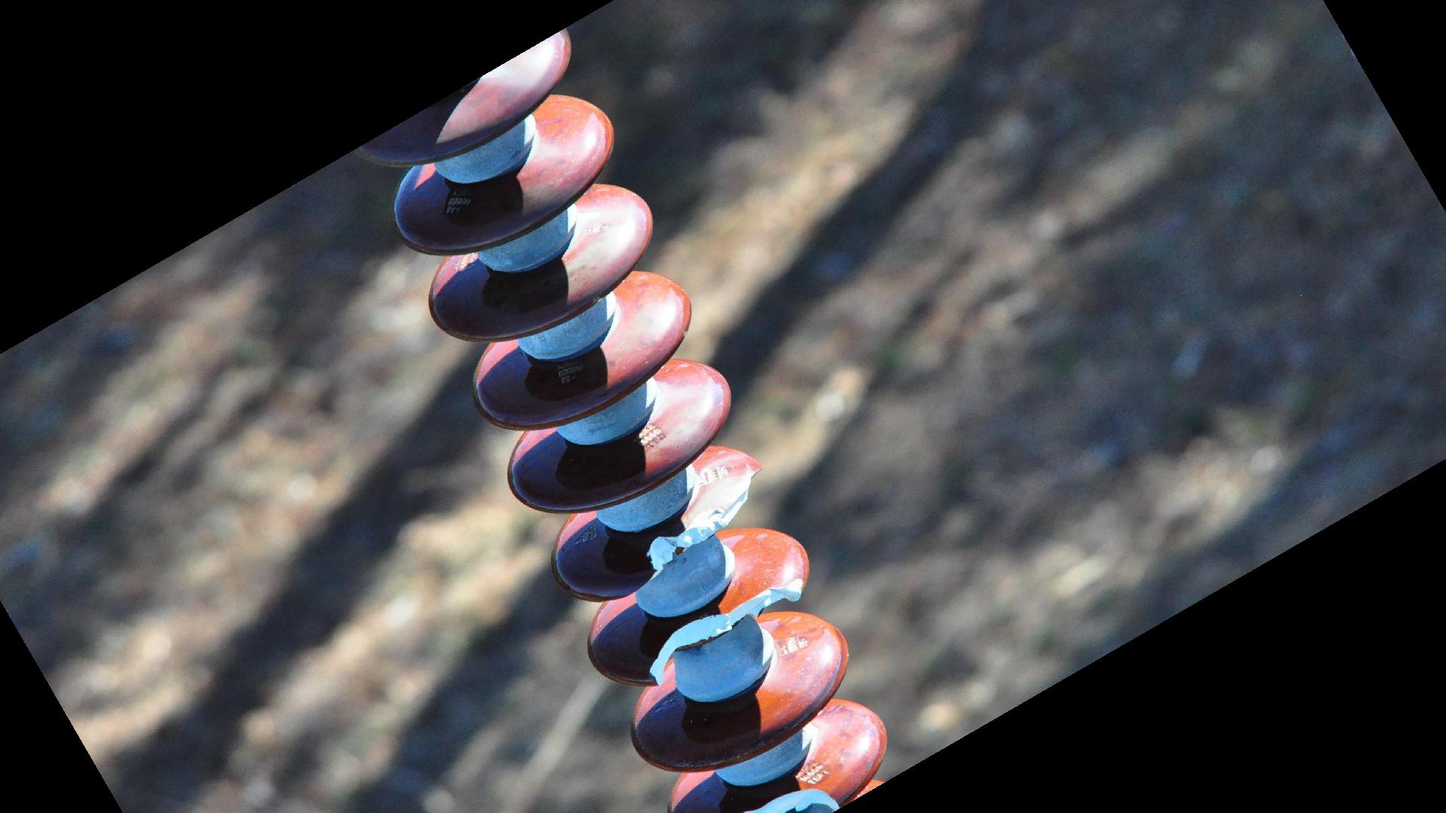insulator: (349, 26, 896, 813)
insulator_breakage: (611, 455, 768, 603), (642, 570, 808, 690), (740, 784, 850, 813)
